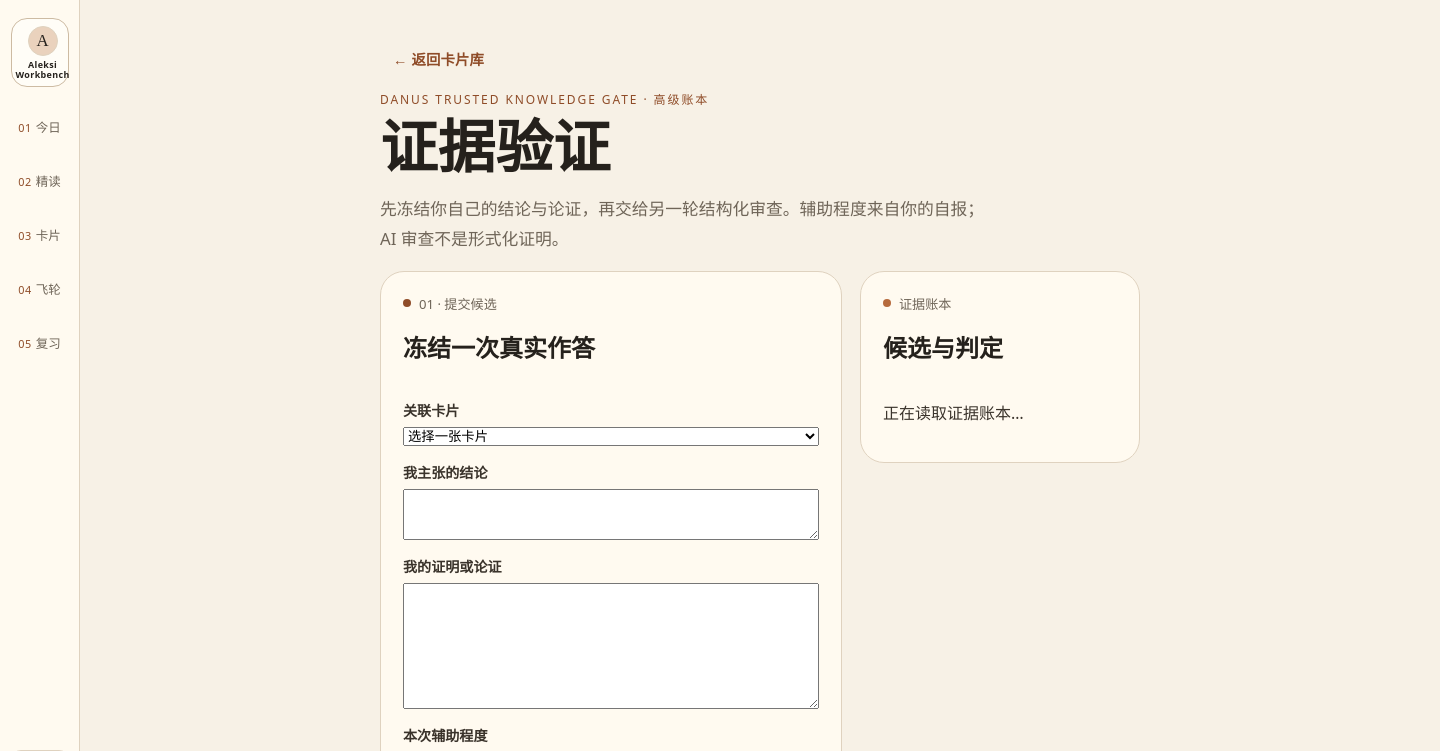
Card Studio › falls back from verification to the card library when no origin exists
Click the button "← 返回卡片库" at (439, 58), box top-left (380, 36), bottom-right (497, 80)
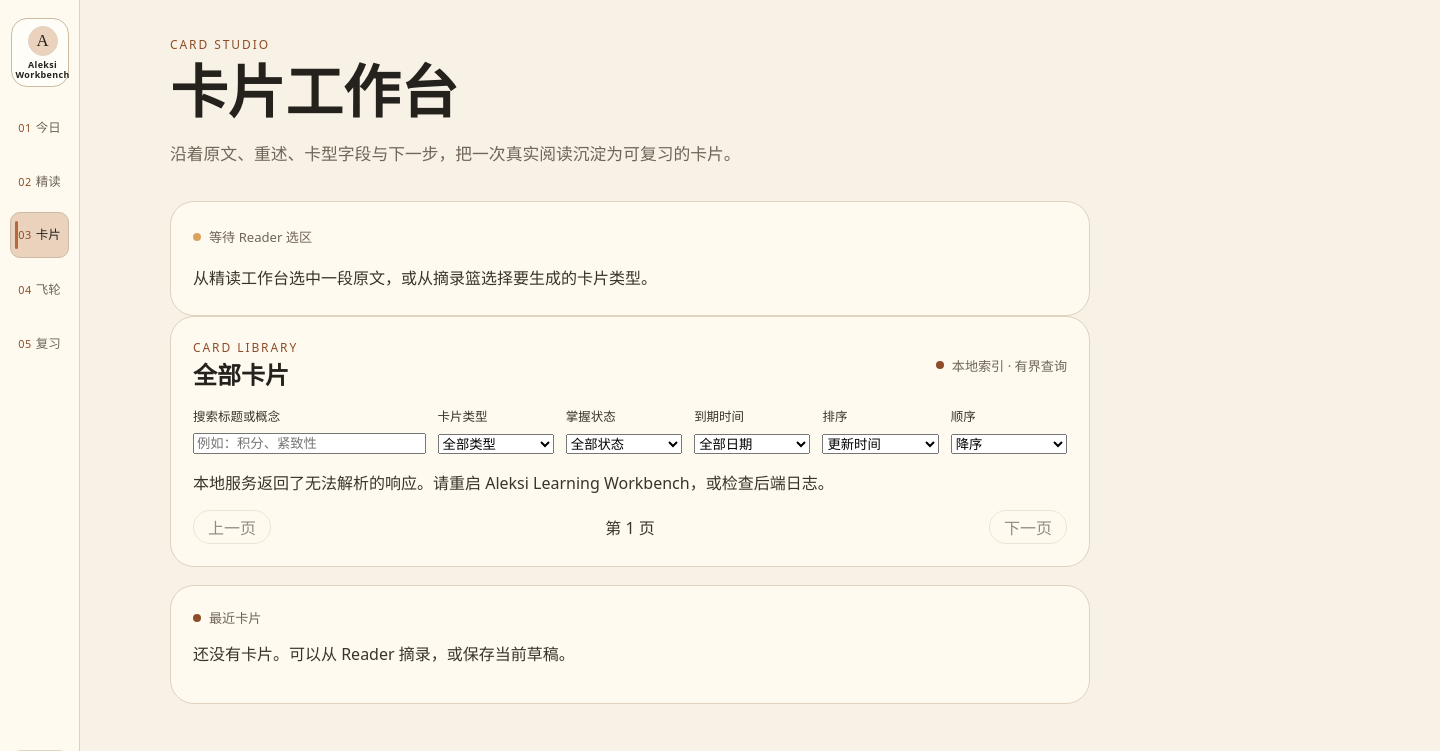
Result: the heading "卡片工作台" is shown at top-left (170, 62), bottom-right (458, 125)
